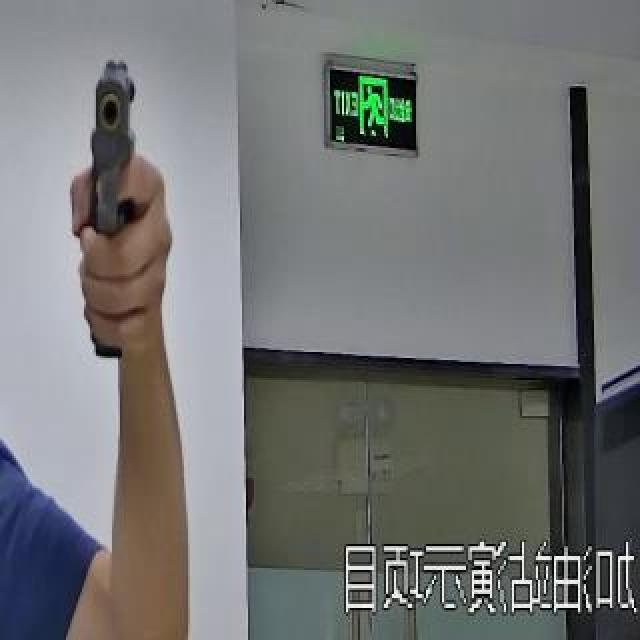Guns: (53, 2, 169, 312)
